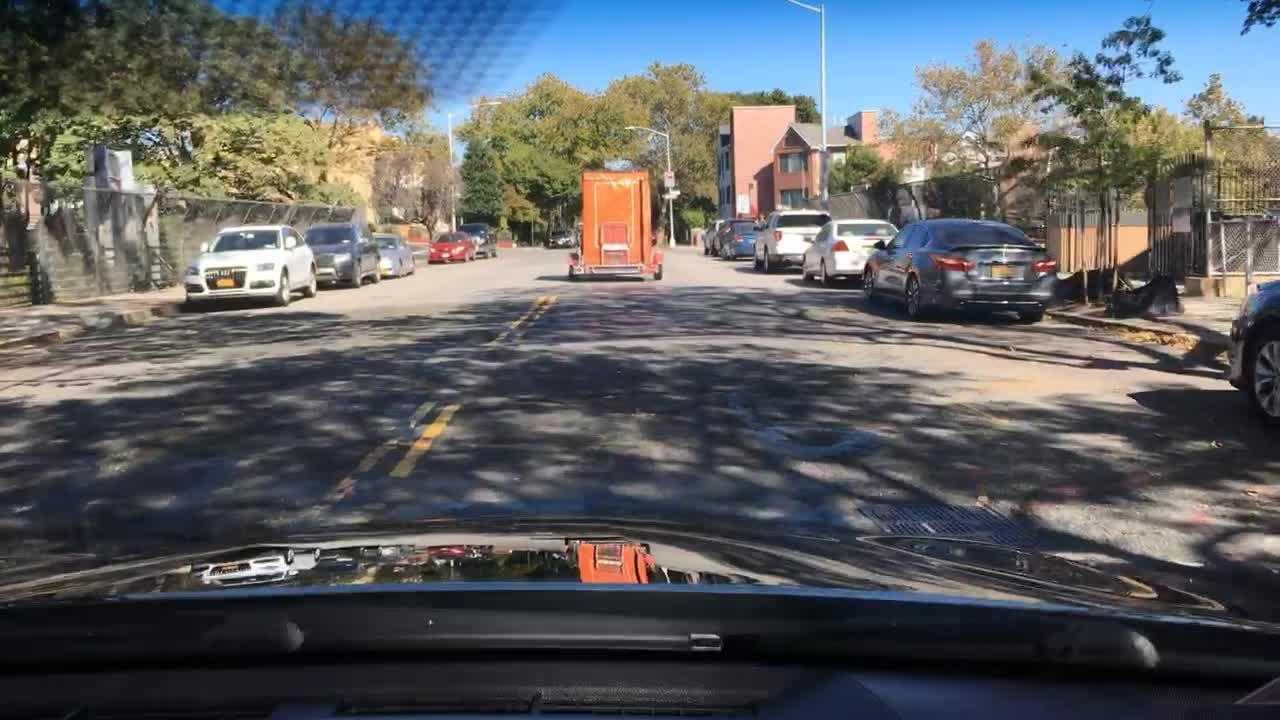Audi: (213, 266, 236, 280)
